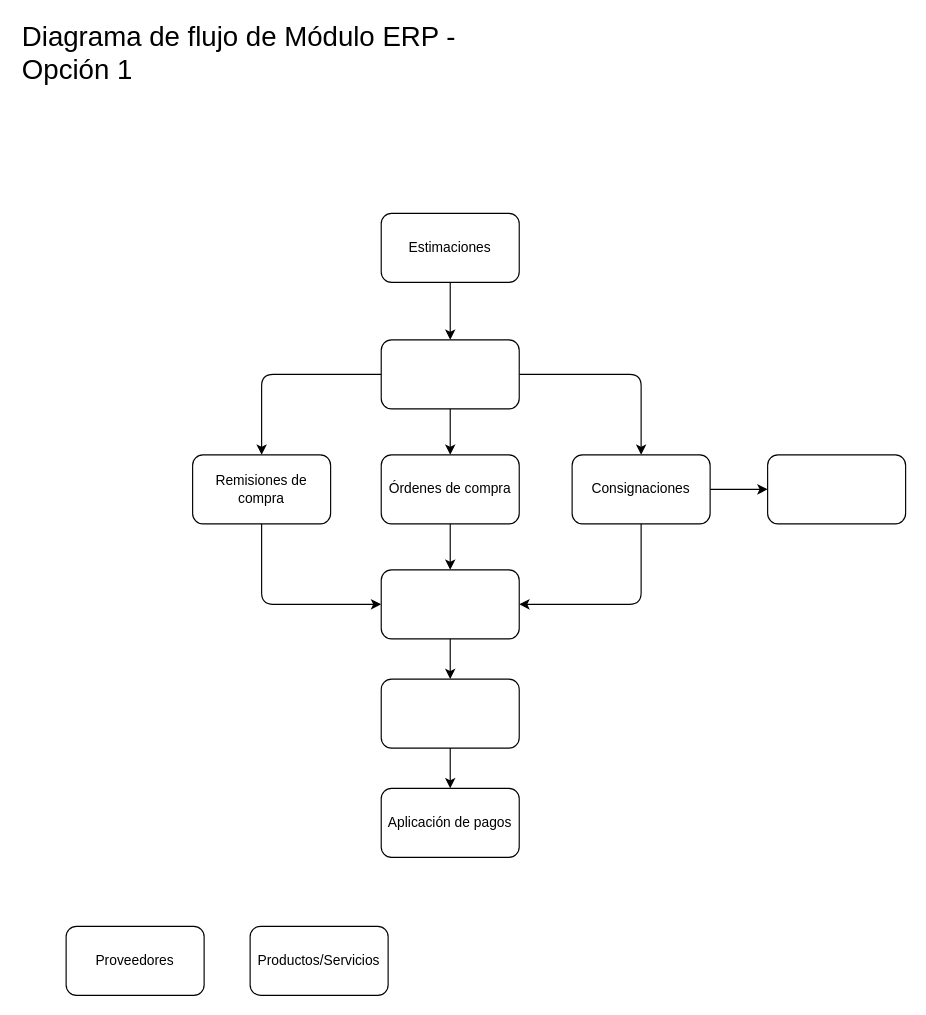
Some shapes in this 926 by 1015 pixel diagram are drawn without their labels. The shapes that lost their labels are listed below. From the top down, each one's centre as x and y in pixels, then its label:
At (449,374): "Requisiciones".
At (836,489): "Devoluciones".
At (449,604): "Facturas de Compra".
At (449,713): "Autorización de pagos".
